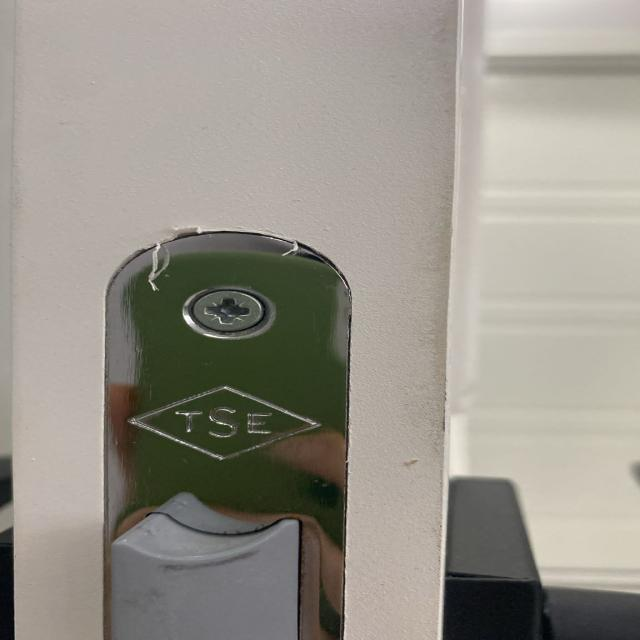Pozidriv: (192, 291, 283, 338)
